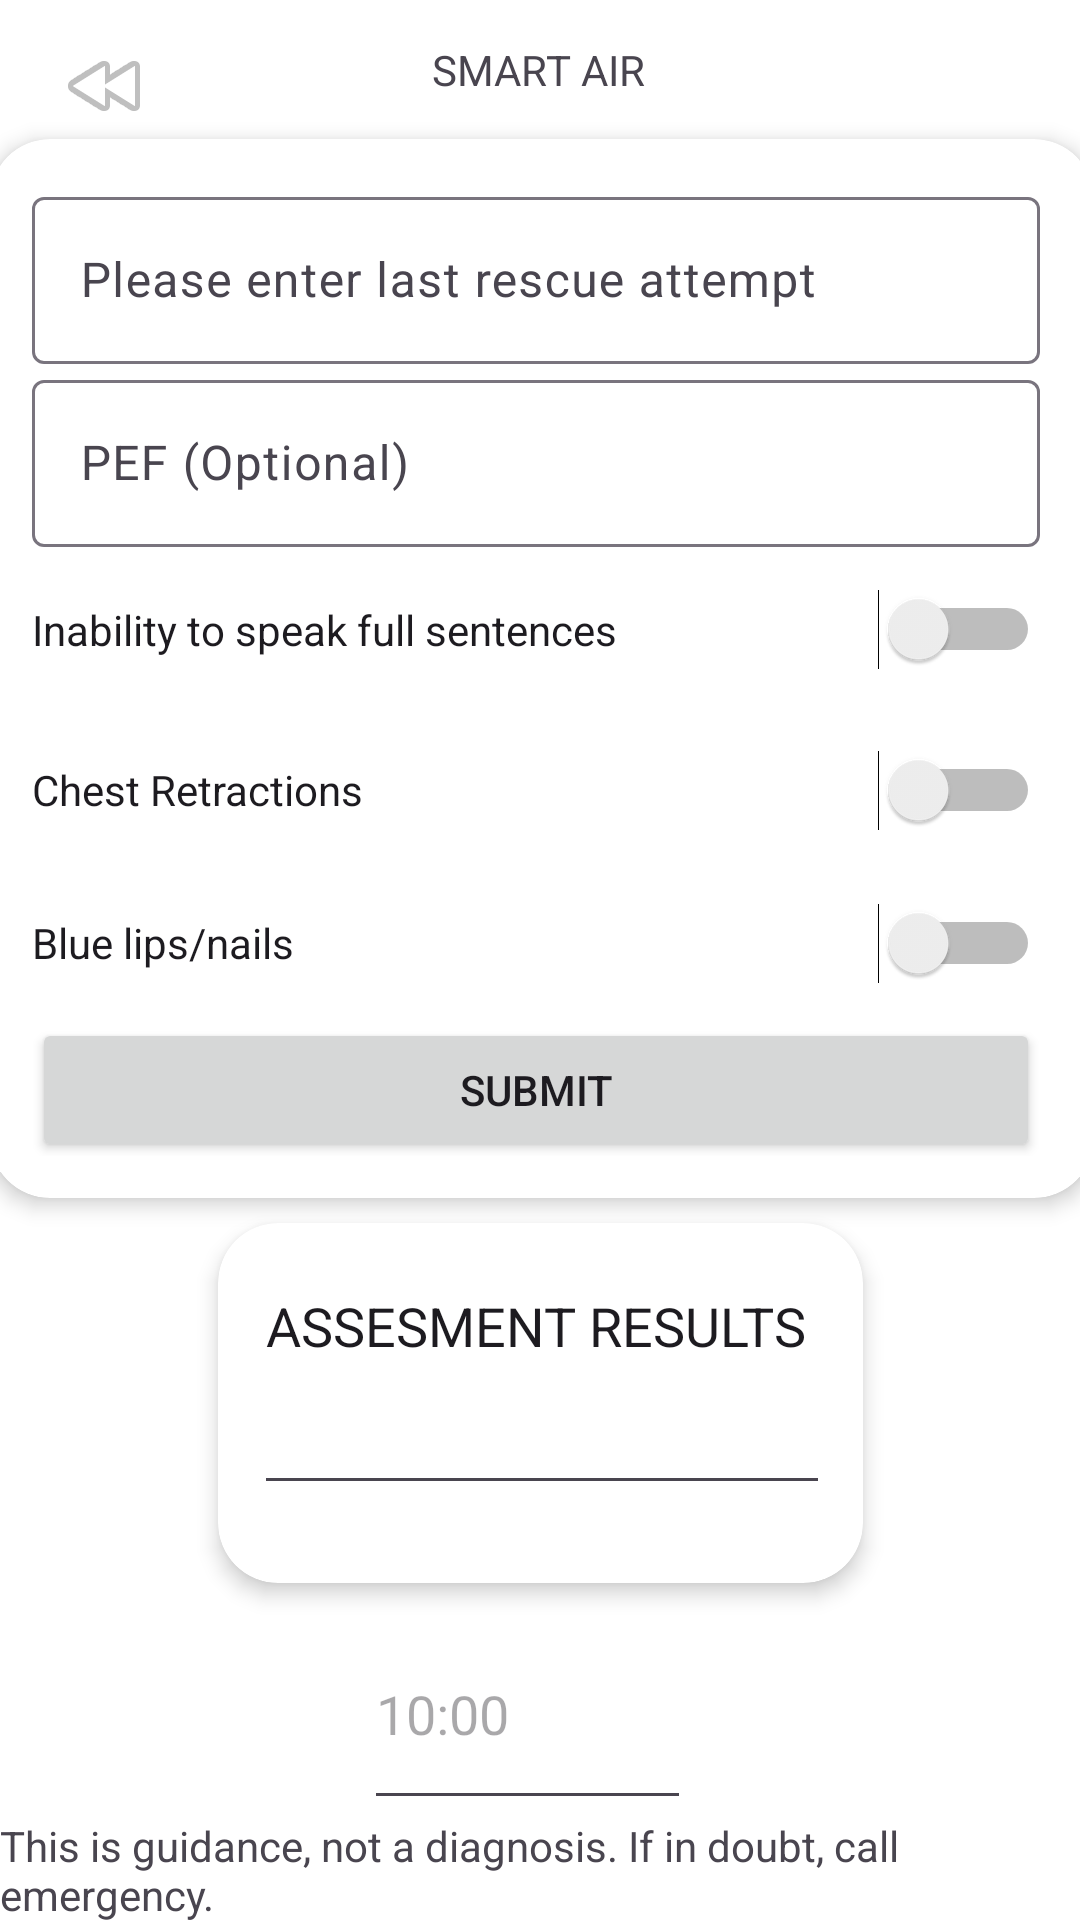

Named icons in this screenshot (1080px×1920px) and their bounding boxes, (x1, y1, x2, y2):
Back button: (68, 61, 140, 111)
